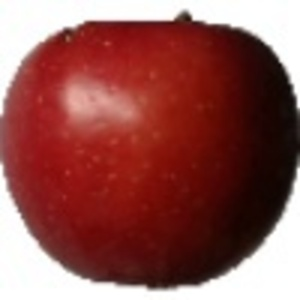maçã braeburn: (1, 9, 299, 292)
